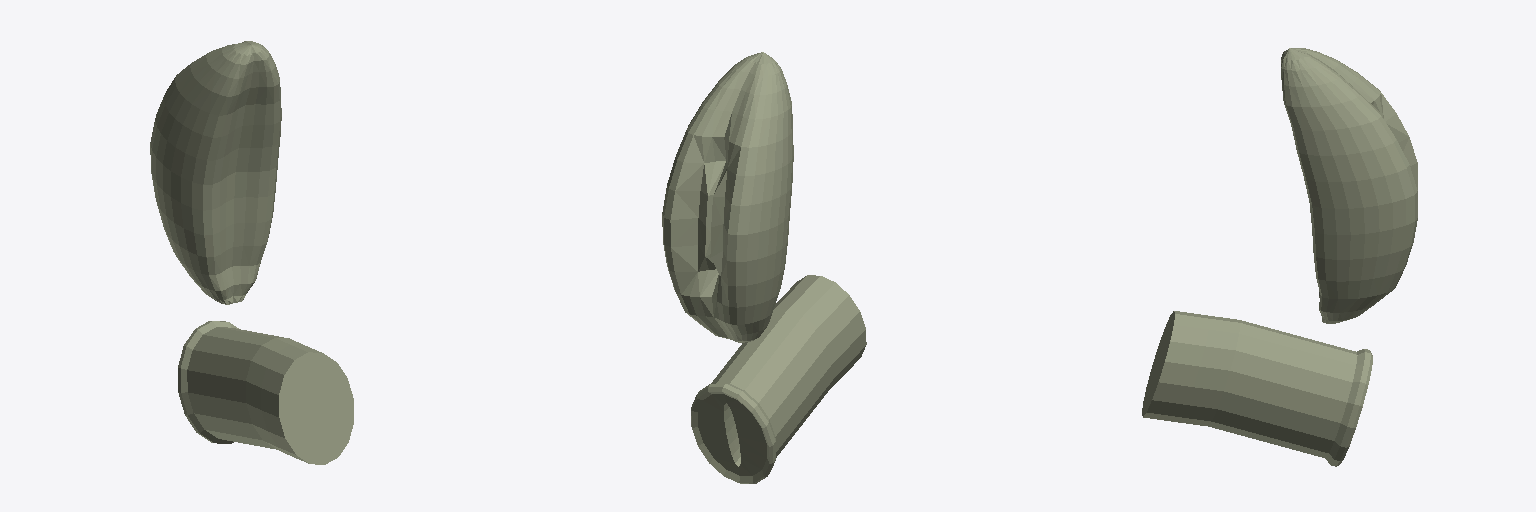
Rendered from Nethers_default.obj.
3 renders of one model, left to right at view 1: azimuth 30°, elevation 25°; view 2: azimuth 150°, elevation 25°; view 3: azimuth 270°, elevation 25°, orthographic.
Visible parts, largest first — view 1: Nethers_default; view 2: Nethers_default; view 3: Nethers_default.
Part boxes in pixels (x1,y1,x2,y2): Nethers_default: (150, 41, 353, 464); Nethers_default: (662, 52, 866, 483); Nethers_default: (1142, 48, 1417, 466).
Bounding box in the file's own units: 0.2881 × 1.11 × 0.6682.